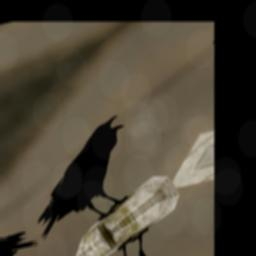Crow: (12, 113, 159, 256)
